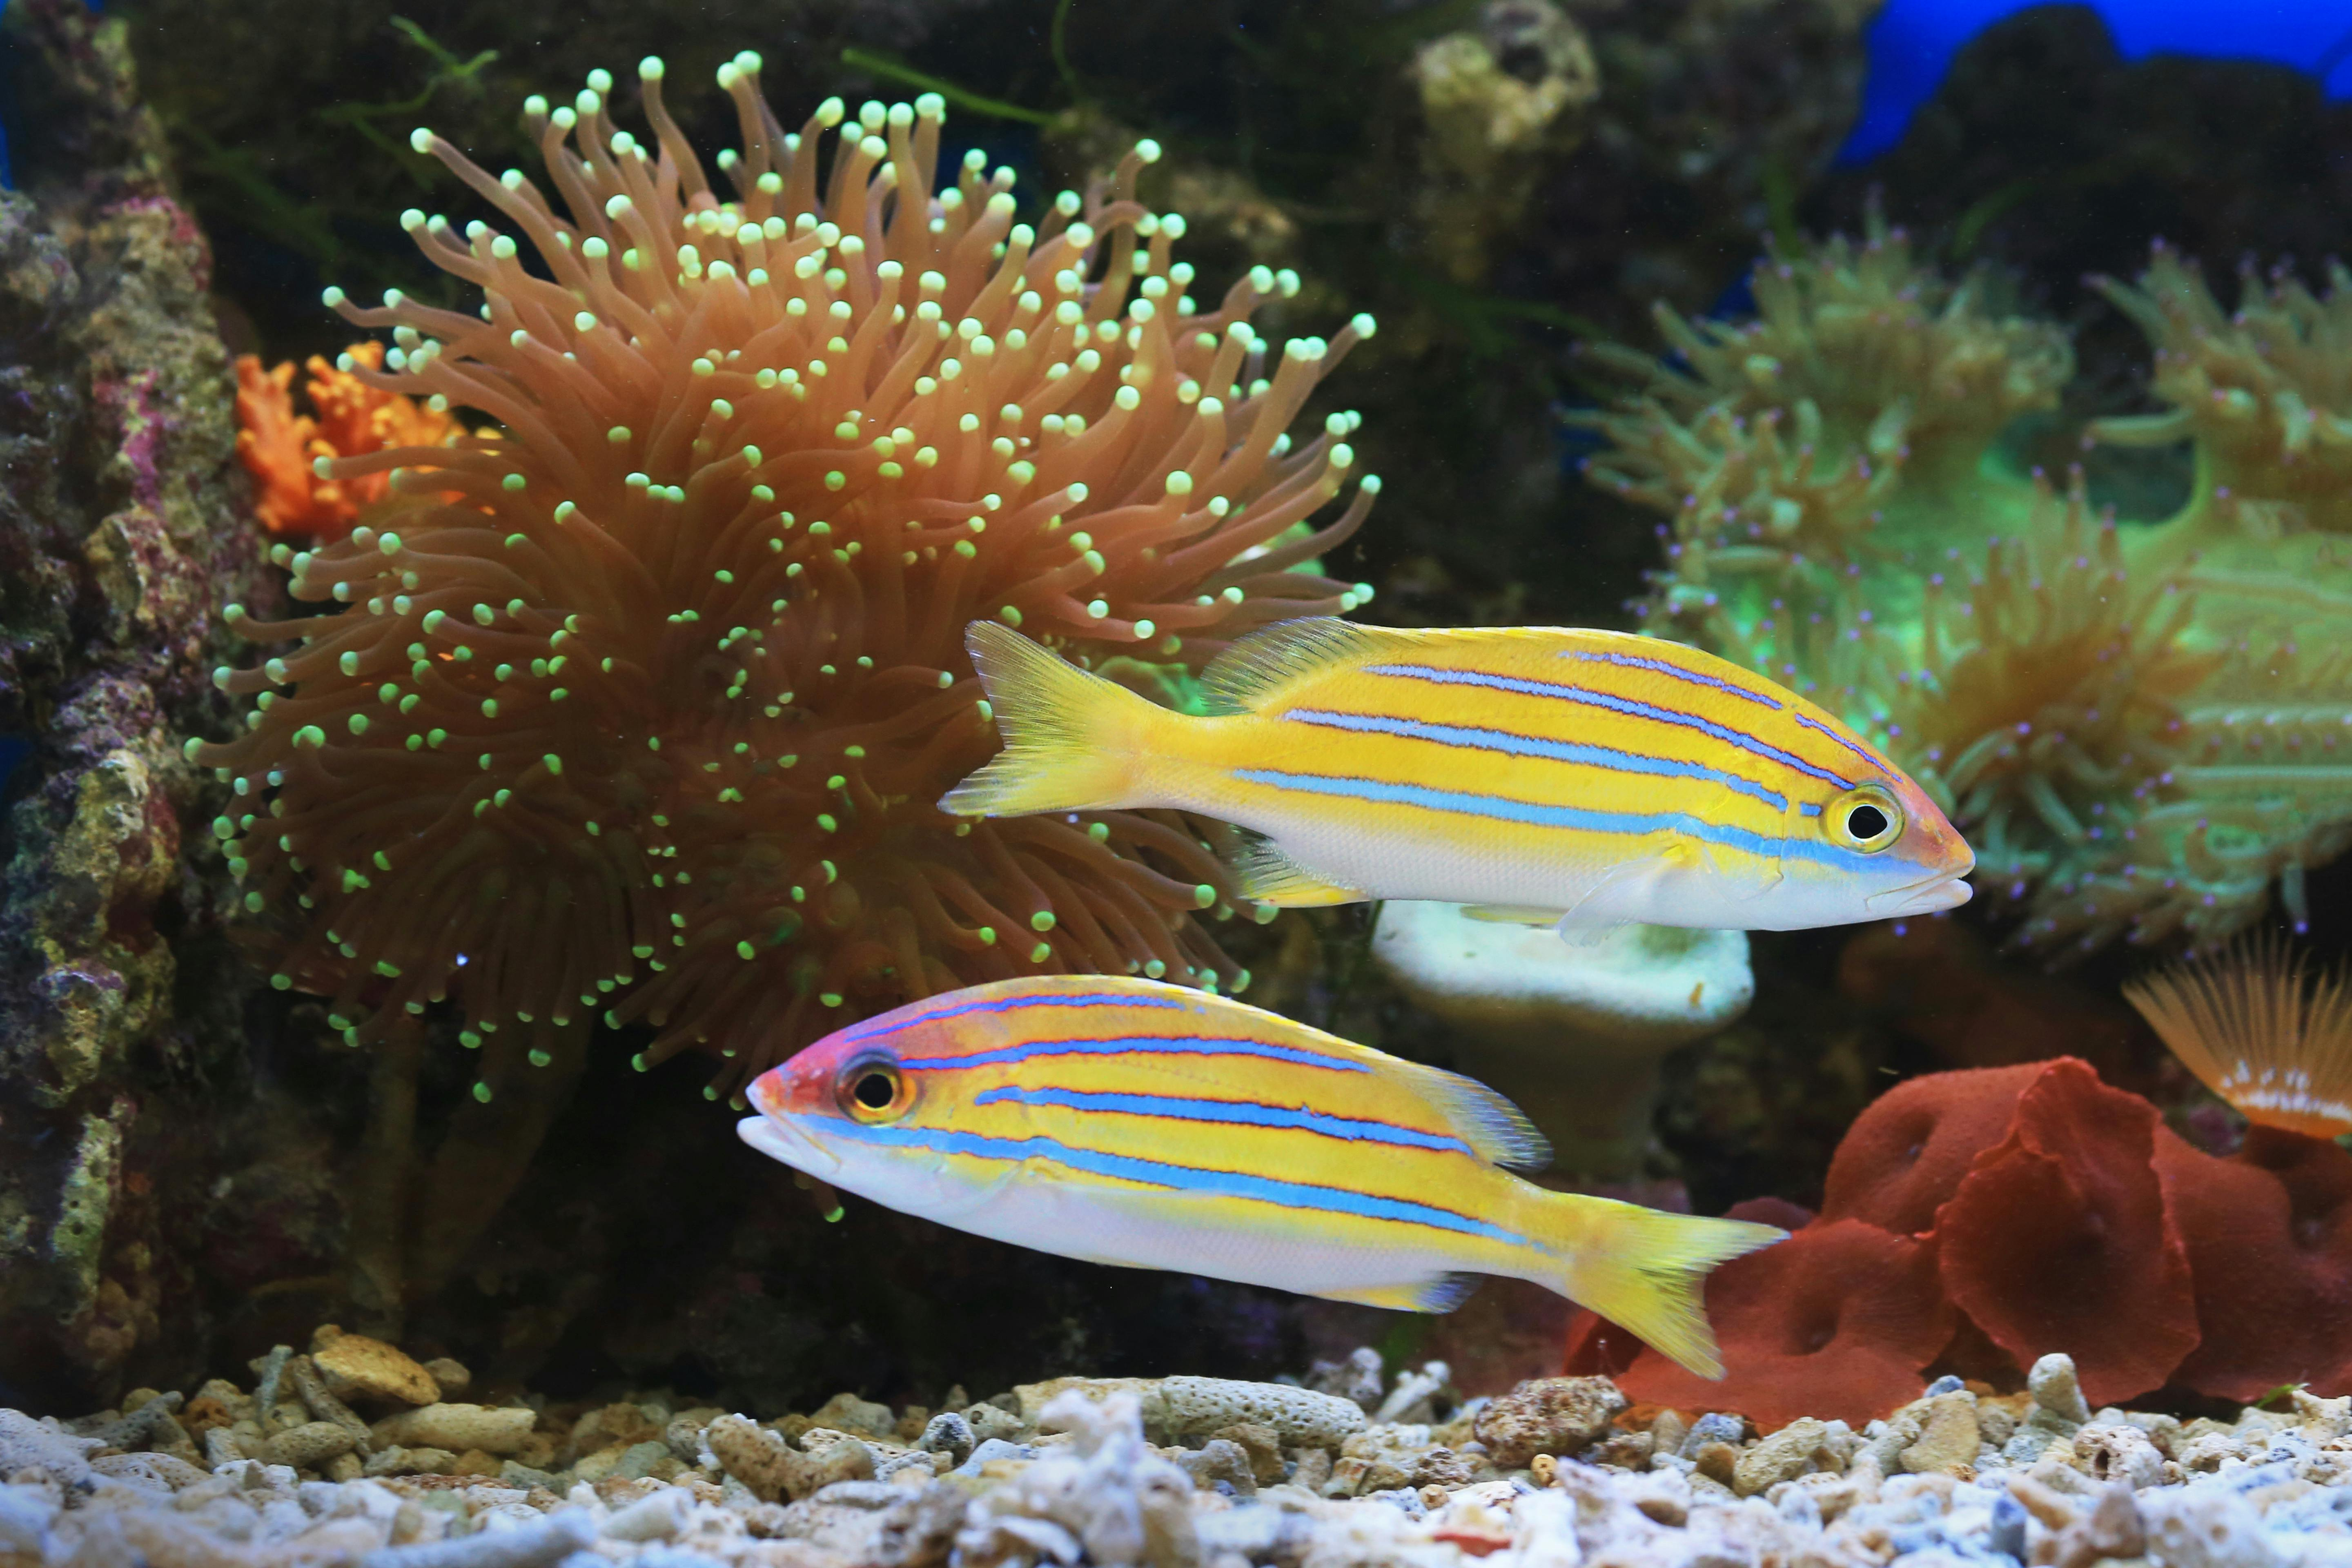fishSmall: (733, 968, 1794, 1384), (940, 612, 1977, 950)
